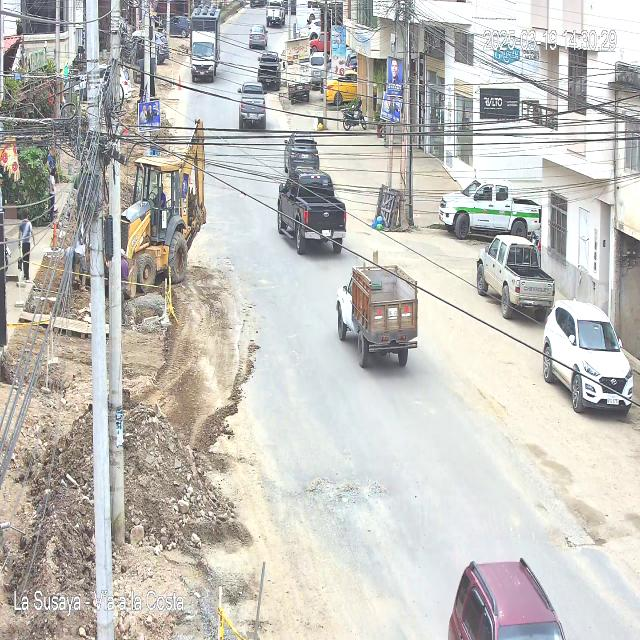CMT: (337, 263, 419, 372), (278, 167, 346, 256)
